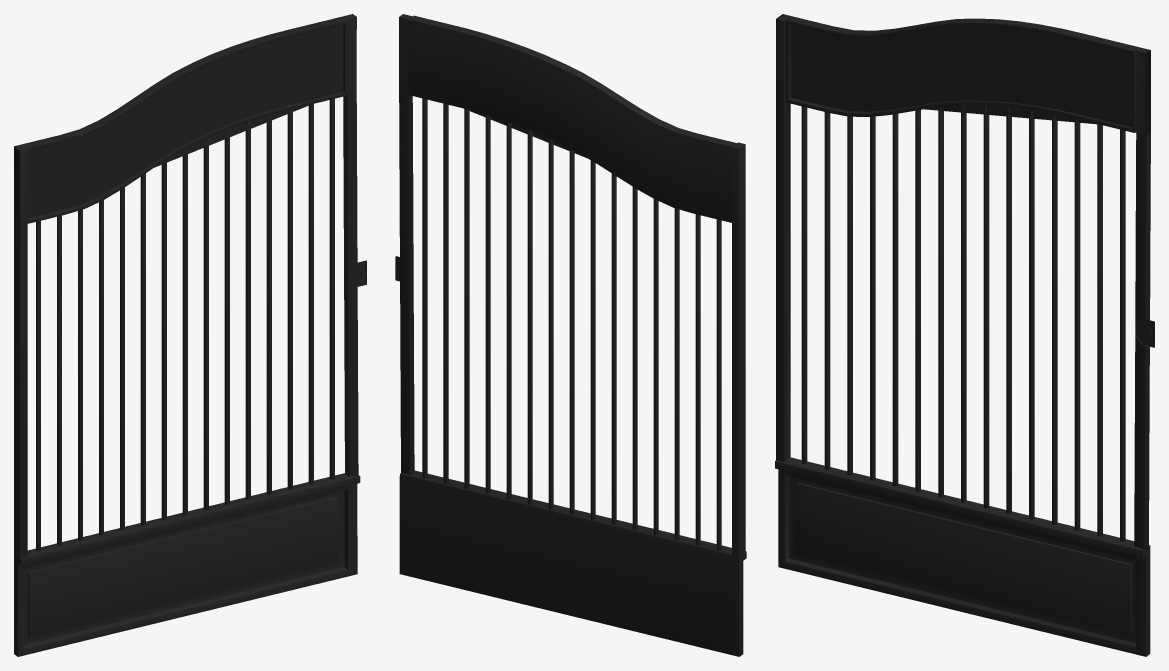
File: Gate OpeningLEFT.fbx
The picture shows the model from 3 angles, left to right: view 1: azimuth 30°, elevation 25°; view 2: azimuth 150°, elevation 25°; view 3: azimuth 330°, elevation 25°; orthographic projection. The views are drawn at different scales.
Parts seen in each view (by area): view 1: Cube; view 2: Cube; view 3: Cube.
Boxes of the visible parts, x1,y1,x2,y2 form: Cube: (14,14,366,656); Cube: (395,14,746,656); Cube: (775,14,1154,656).
Size of the model in its own units: 453 by 693 by 18.95.
